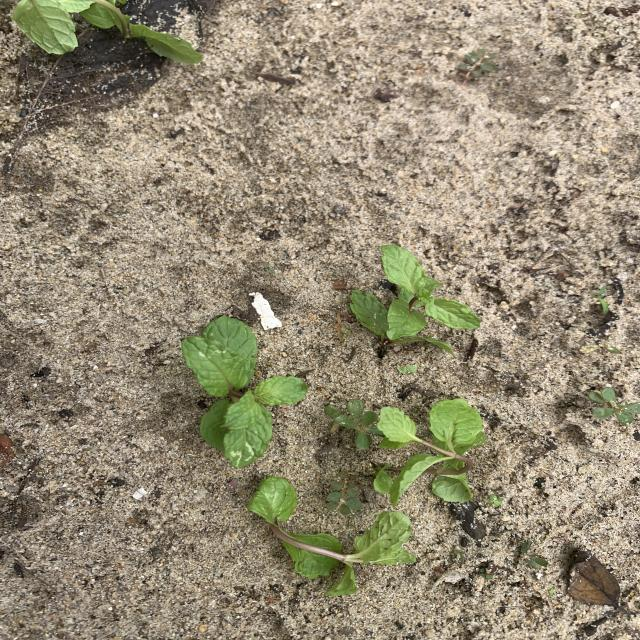crop: (248, 477, 413, 595), (182, 316, 307, 466), (351, 245, 479, 350), (14, 1, 202, 63), (375, 399, 486, 504)
weed: (324, 400, 380, 449), (588, 388, 639, 425), (327, 473, 361, 513), (459, 50, 495, 77), (594, 287, 609, 314), (335, 312, 348, 341), (397, 365, 419, 375), (487, 494, 503, 506), (479, 566, 492, 579), (452, 549, 463, 560), (263, 263, 275, 273)
